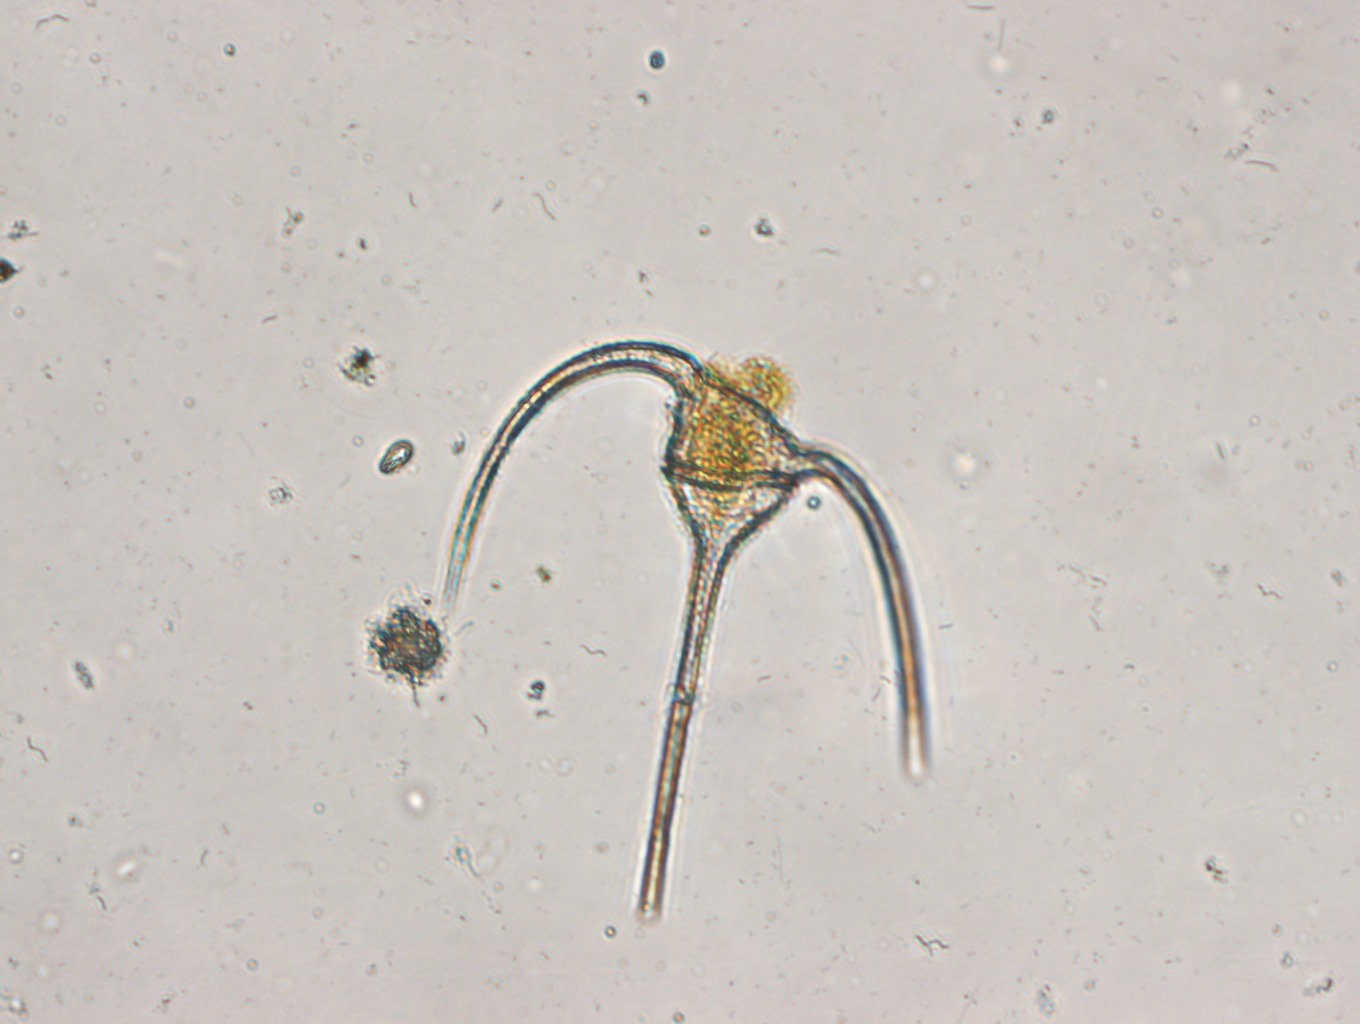ceratium trichoceros: (448, 319, 935, 931)
